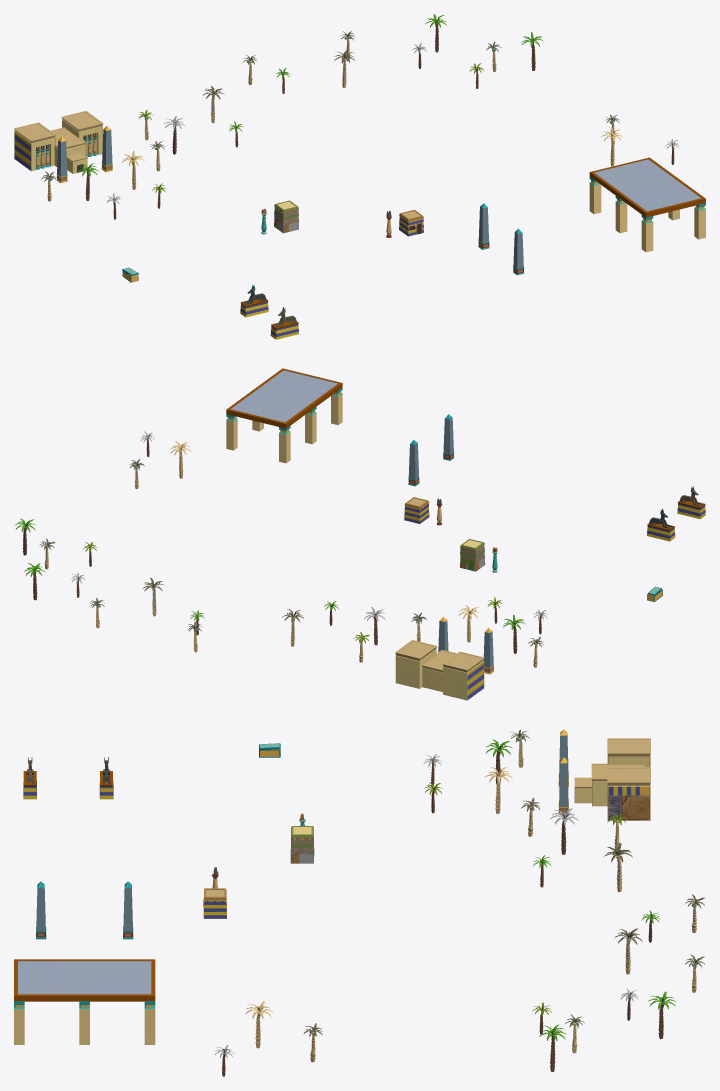
Rendered from Buildings.fbx.
3 views of the same model, one above another, from view 1: azimuth 30°, elevation 25°; view 2: azimuth 150°, elevation 25°; view 3: azimuth 270°, elevation 25° (orthographic). The views are drawn at different scales.
Parts seen in each view (by area): view 1: B5_7, B6_2, B6_3, B3, B6_1, B4; view 2: B5_7, B6_2, B6_3, B6_1, B3, B4; view 3: B5_7, B6_3, B6_2, B3, B6_1, B4.
Boxes of the visible parts, <box> form: B5_7: <box>589,157,705,217</box>; B6_2: <box>14,122,55,171</box>; B6_3: <box>61,111,103,156</box>; B3: <box>274,200,298,233</box>; B6_1: <box>51,127,85,166</box>; B4: <box>399,209,423,236</box>; B5_7: <box>226,368,342,428</box>; B6_2: <box>443,651,484,700</box>; B6_3: <box>395,640,436,688</box>; B6_1: <box>422,650,456,691</box>; B3: <box>460,539,485,571</box>; B4: <box>404,497,429,523</box>; B5_7: <box>14,959,155,1001</box>; B6_3: <box>607,767,650,820</box>; B6_2: <box>607,738,650,767</box>; B3: <box>290,826,314,863</box>; B6_1: <box>591,763,644,806</box>; B4: <box>203,888,226,918</box>.
Size of what is drawn, in the model's own units: 1424 by 115 by 1271.
